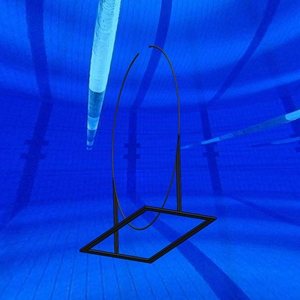circle: (79, 44, 217, 264)
